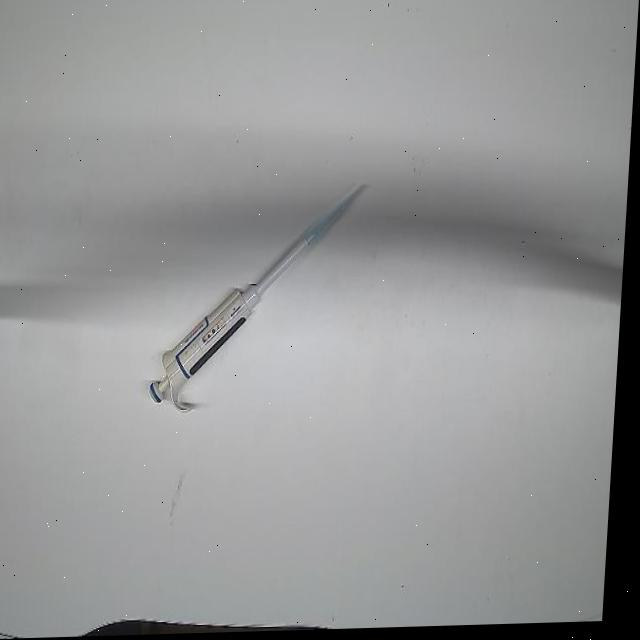Micropipette Tip 1000 uL: (306, 182, 368, 250)
Single Channel Pipettor: (153, 215, 336, 417)
